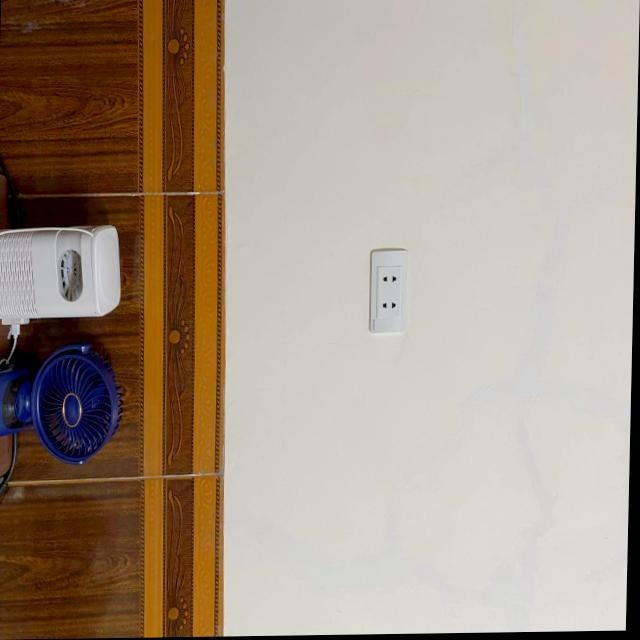outlet: (368, 248, 409, 334)
